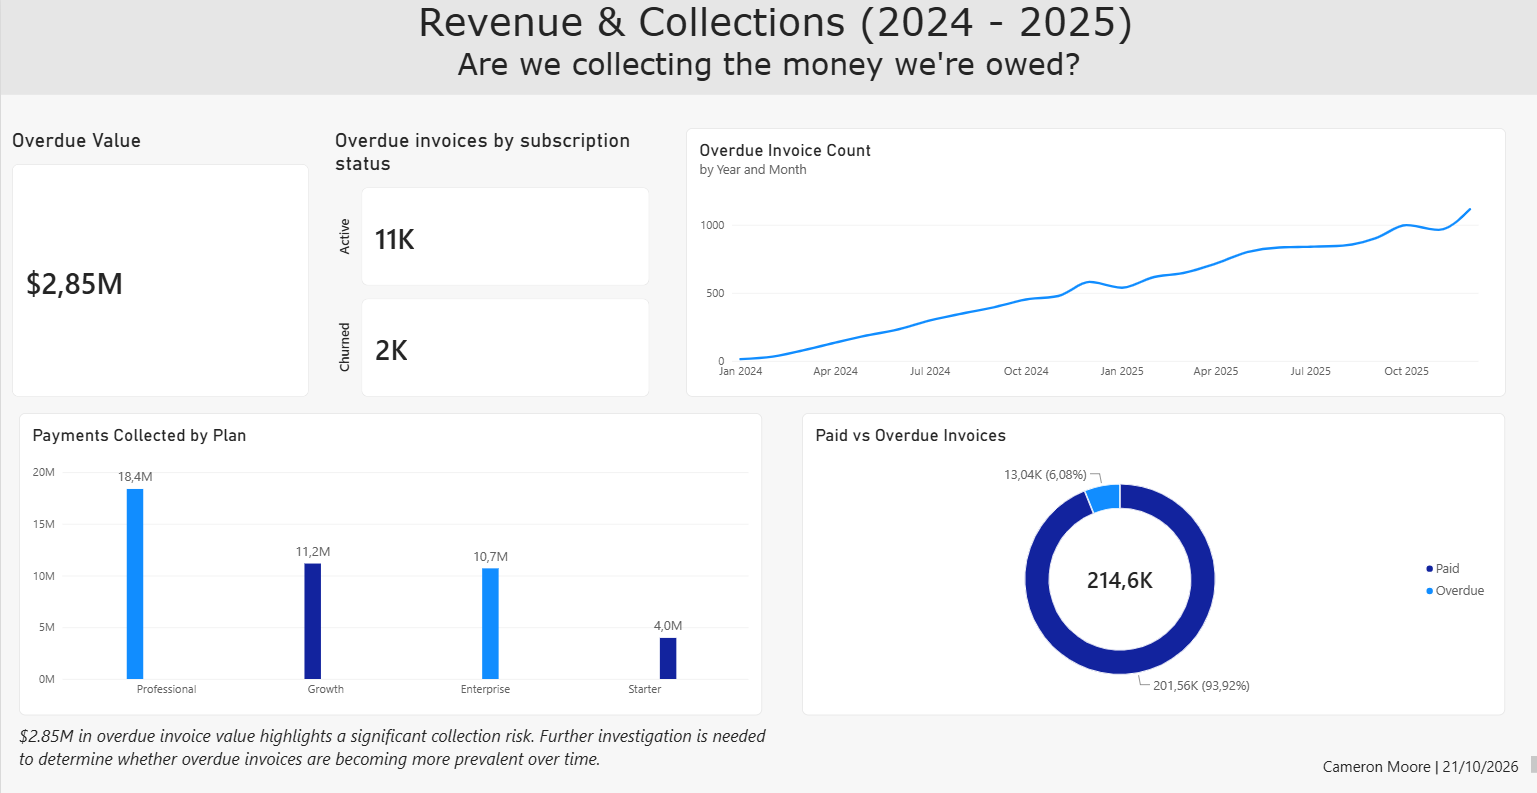

The dashboard page shown, as its layout file describes it:
{"tool":"powerbi","page":{"name":"Revenue & Collections","canvas":[1920,1080],"ordinal":1},"visuals":[{"type":"textbox","box":[0,0,1920,121.4],"z":0},{"type":"clusteredColumnChart","title":"Payments Collected by Plan","fields":{"Category":["northstar_workflow plans.plan_name"],"Series":["northstar_workflow plans.plan_name"],"Y":["Sum(northstar_workflow payments.amount_usd)"]},"box":[22.5,518.8,928.8,377.5],"z":1000},{"type":"donutChart","title":"Paid vs Overdue Invoices","fields":{"Category":["northstar_workflow invoices.invoice_status"],"Y":["CountNonNull(northstar_workflow invoices.invoice_id)"]},"box":[1001.2,518.8,879,377.5],"z":2000},{"type":"lineChart","fields":{"Category":["northstar_workflow invoices.invoice_date.Variation.Date Hierarchy.Year","northstar_workflow invoices.invoice_date.Variation.Date Hierarchy.Month"],"Y":["northstar_workflow companies.Overdue Invoice Count"]},"box":[856.2,162.5,1025,336.2],"z":3000},{"type":"cardVisual","title":"Overdue invoices by subscription status","fields":{"Data":["northstar_workflow companies.Overdue Invoice Count"],"Rows":["northstar_workflow subscriptions.status"]},"box":[417.5,162.5,393.8,336.2],"z":4000},{"type":"cardVisual","title":"Overdue Value","fields":{"Data":["northstar_workflow companies.Overdue Invoice Value"]},"box":[13.8,162.5,371.2,336.2],"z":5000},{"type":"textbox","box":[1652.5,947.5,267.5,22.5],"z":6000},{"type":"textbox","box":[22.5,907.5,956.2,62.5],"z":7000}]}

Visuals, with their boxes on the page's 1920x1080 design canvas (x1, y1, x2, y2). These are canvas units, not pixel positions in the 1537x793 screenshot, which may show the page scaled, cropped or inside an application window:
textbox: box=[0, 0, 1920, 121]
"Payments Collected by Plan" clusteredColumnChart: box=[22, 519, 951, 896]
"Paid vs Overdue Invoices" donutChart: box=[1001, 519, 1880, 896]
lineChart - northstar_workflow invoices.invoice_date.Variation.Date Hierarchy.Year x northstar_workflow invoices.invoice_date.Variation.Date Hierarchy.Month: box=[856, 162, 1881, 499]
"Overdue invoices by subscription status" cardVisual: box=[418, 162, 811, 499]
"Overdue Value" cardVisual: box=[14, 162, 385, 499]
textbox: box=[1652, 948, 1920, 970]
textbox: box=[22, 908, 979, 970]
